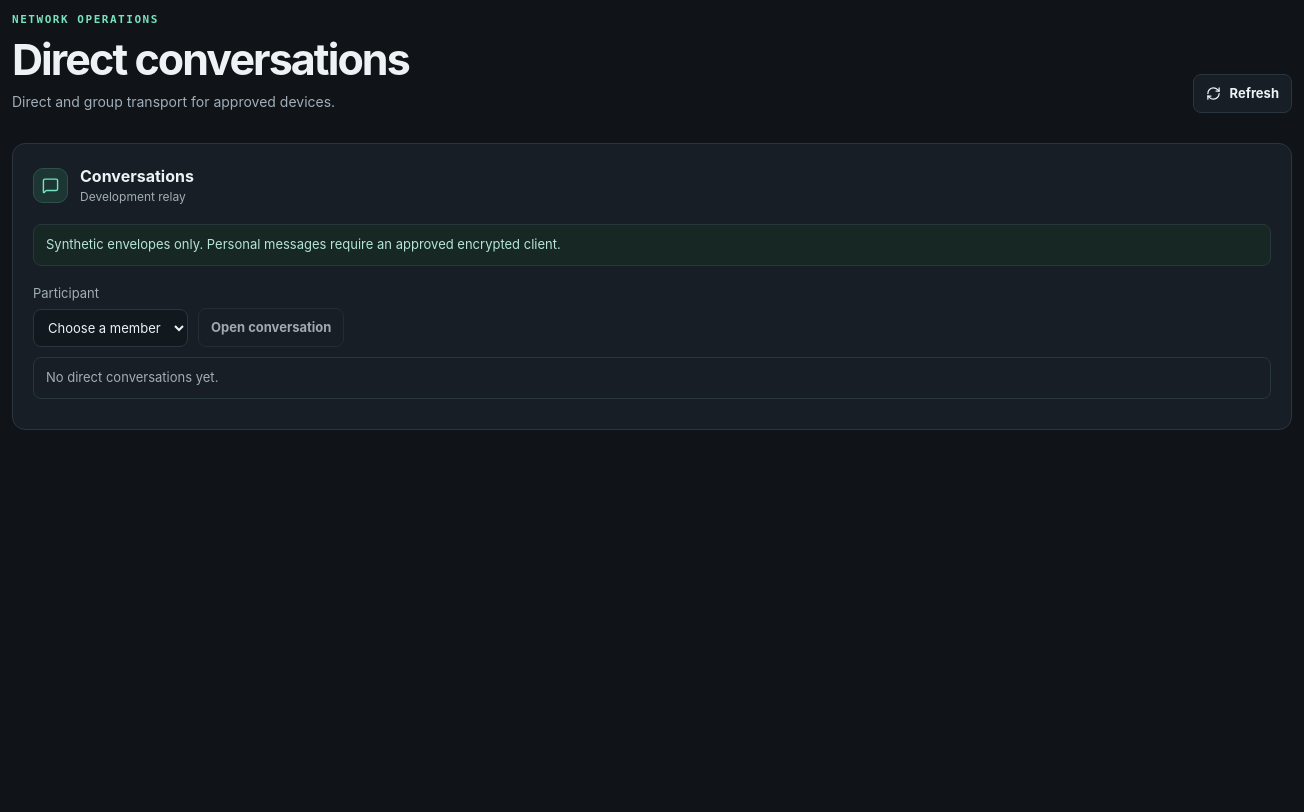
Test: creates a conversation through the authenticated API and refreshes the member list
Select "Member B" in the dropdown labelled "Participant" at point(110, 328), box left=33, top=309, right=188, bottom=347
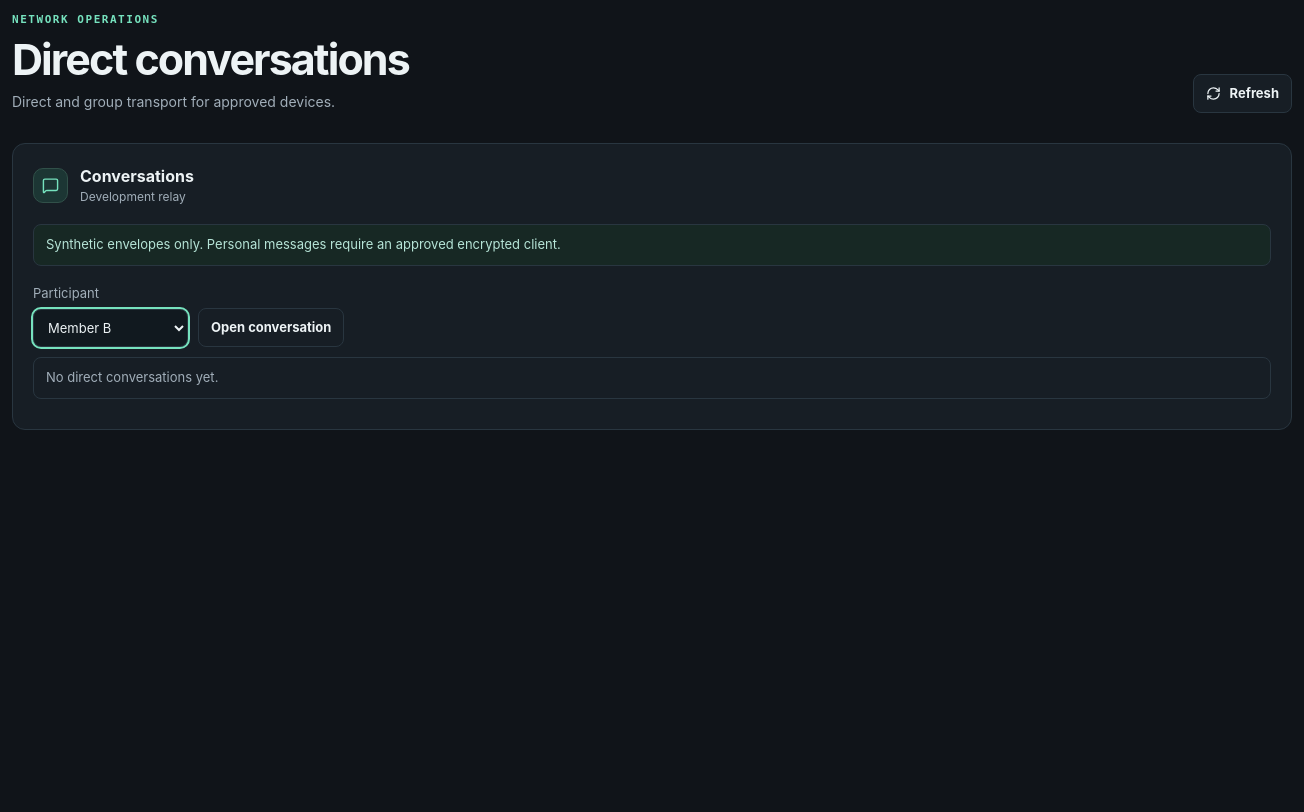
Click the button "Open conversation" at point(271, 327), box left=198, top=308, right=344, bottom=347
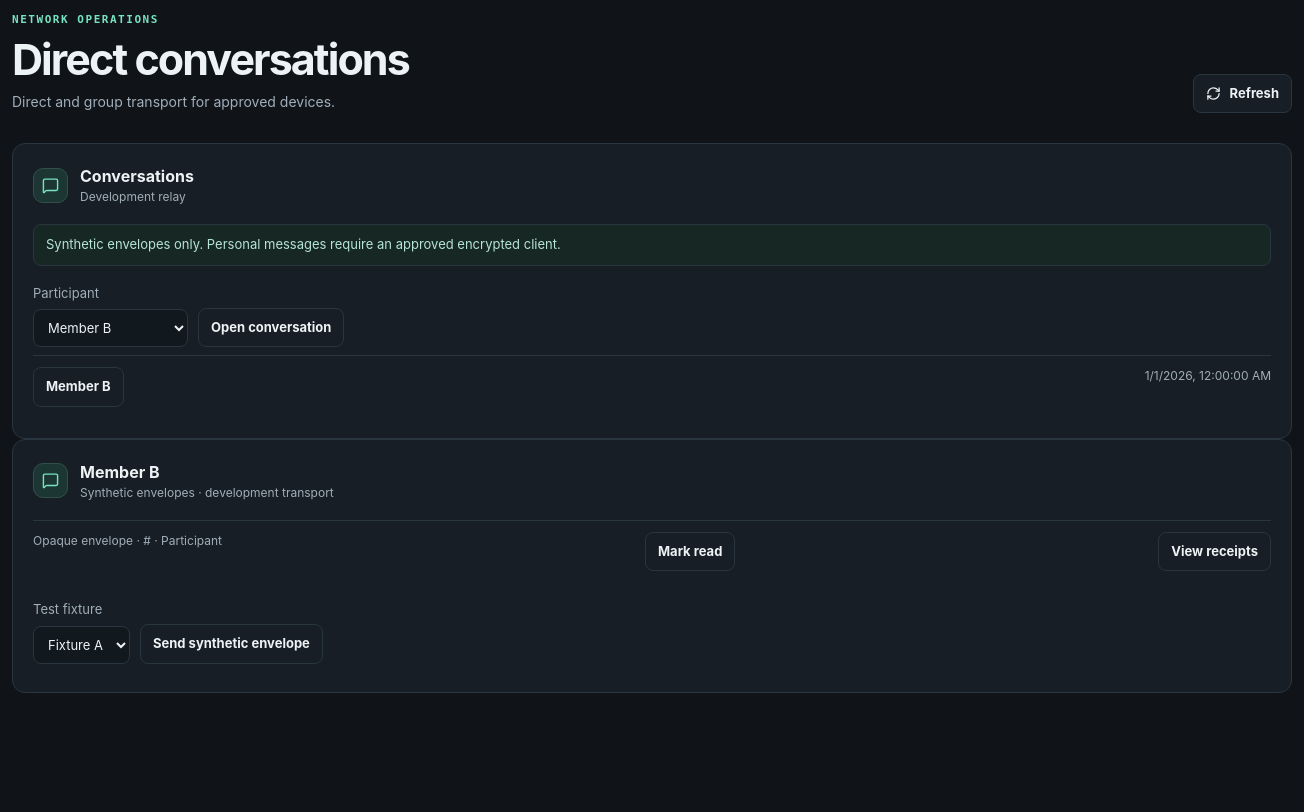
Expected: the button "Member B" is shown, left=33, top=367, right=124, bottom=406
